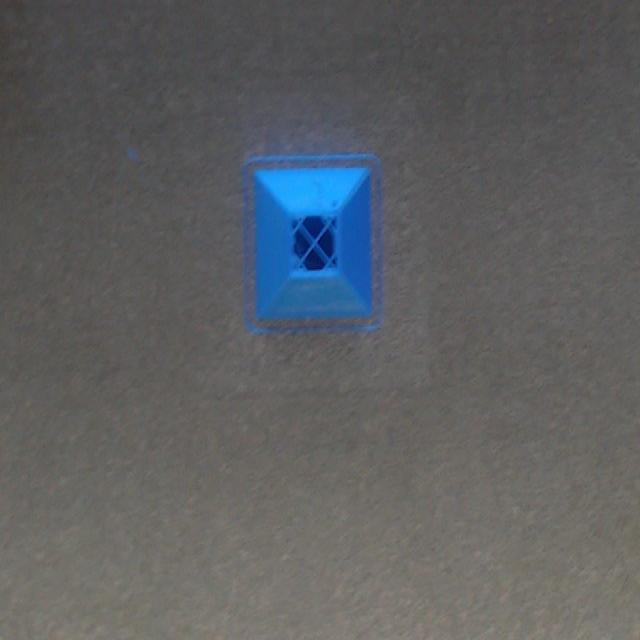mistake: (314, 191, 344, 256)
